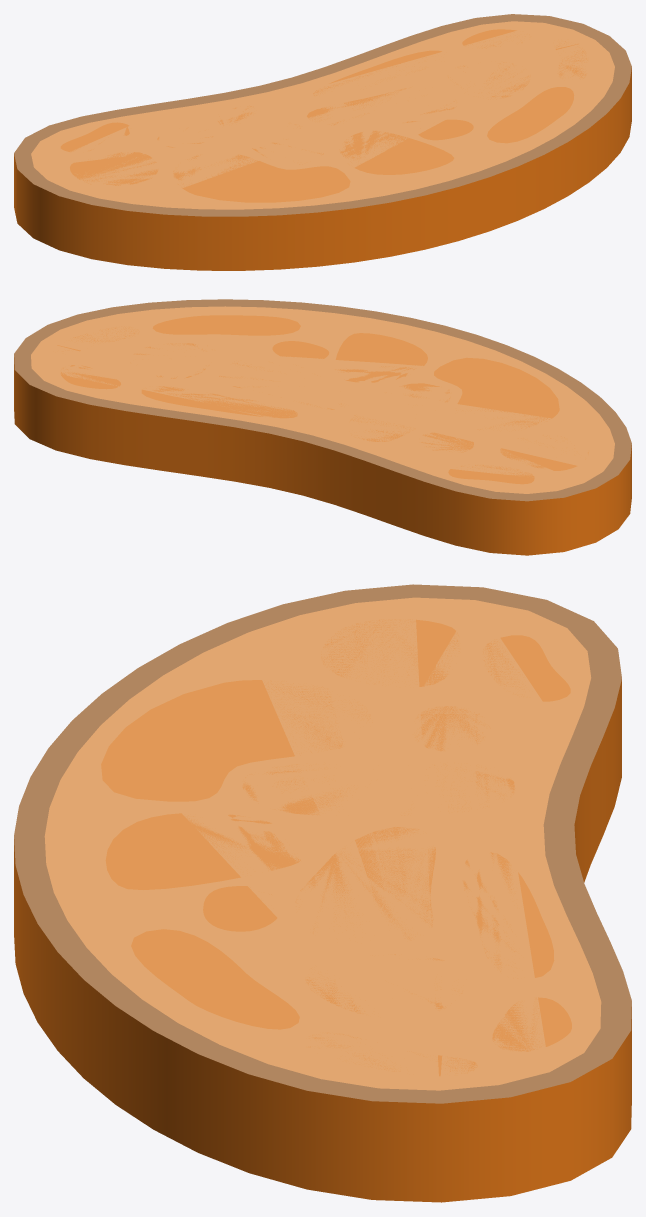
Rendered from Bread K.fbx.
The picture shows the model from 3 angles, top to bottom: view 1: azimuth 30°, elevation 25°; view 2: azimuth 150°, elevation 25°; view 3: azimuth 270°, elevation 25°; orthographic projection. The views are drawn at different scales.
Visible parts, largest first — view 1: Bread K; view 2: Bread K; view 3: Bread K.
Part boxes in pixels (x1,y1,x2,y2): Bread K: (14,14,631,270); Bread K: (14,299,631,555); Bread K: (14,584,631,1202).
Size of the model in its own units: 0.8892 by 0.0789 by 0.4472.
